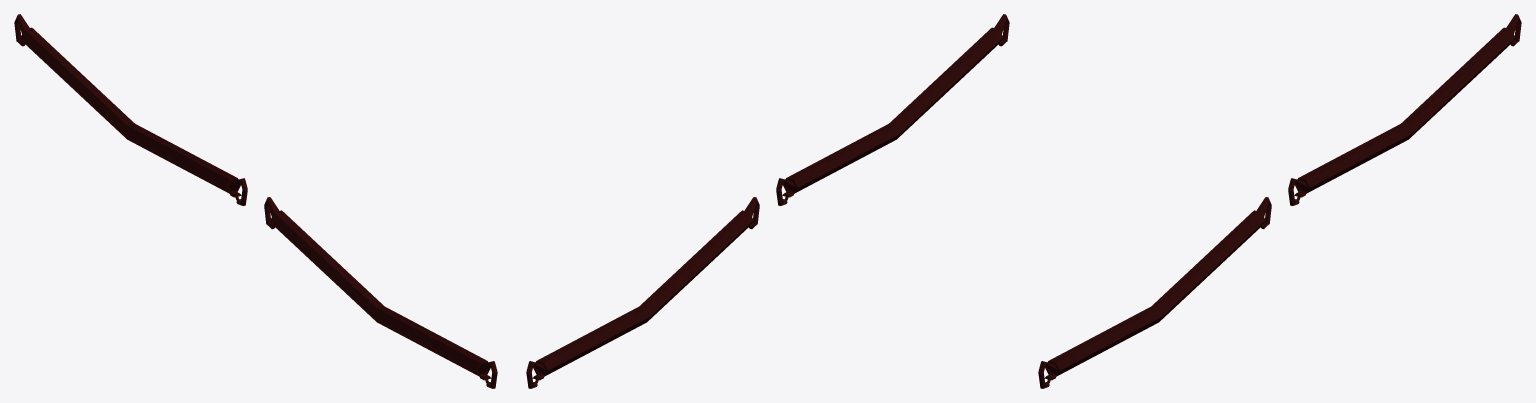
The model's file is redwired.fbx.
3 views of the same model, side by side, from view 1: azimuth 30°, elevation 25°; view 2: azimuth 150°, elevation 25°; view 3: azimuth 330°, elevation 25° (orthographic).
Parts seen in each view (by area): view 1: redrope1, redrope; view 2: redrope, redrope1; view 3: redrope1, redrope.
Part boxes in pixels (<box>): redrope1: <box>14,14,247,205</box>; redrope: <box>264,197,497,388</box>; redrope: <box>776,14,1009,205</box>; redrope1: <box>526,197,759,388</box>; redrope1: <box>1288,14,1521,205</box>; redrope: <box>1038,197,1271,388</box>.
Size of the model in its own units: 0.392 by 1.02 by 20.98.
